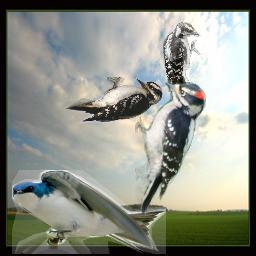Swallow: (12, 170, 166, 254)
Woodpecker: (135, 78, 207, 217), (65, 77, 169, 126), (163, 22, 201, 96)
